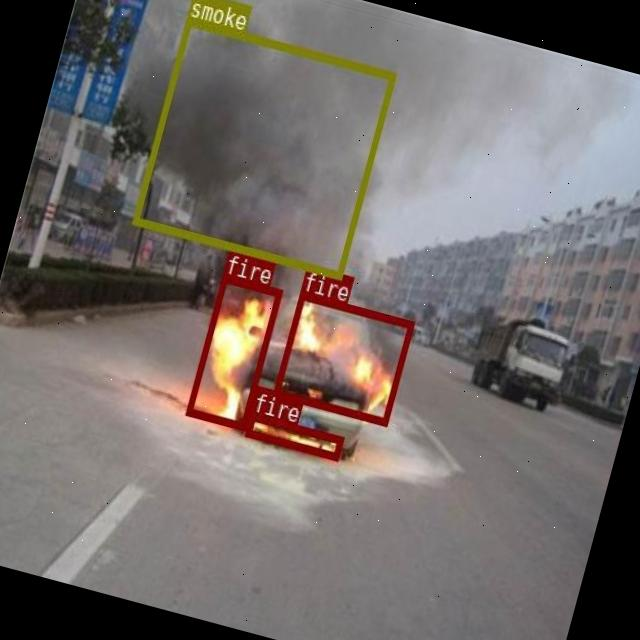fire: (271, 290, 414, 424), (185, 272, 282, 428), (244, 410, 342, 458)
smoke: (131, 15, 395, 278)
